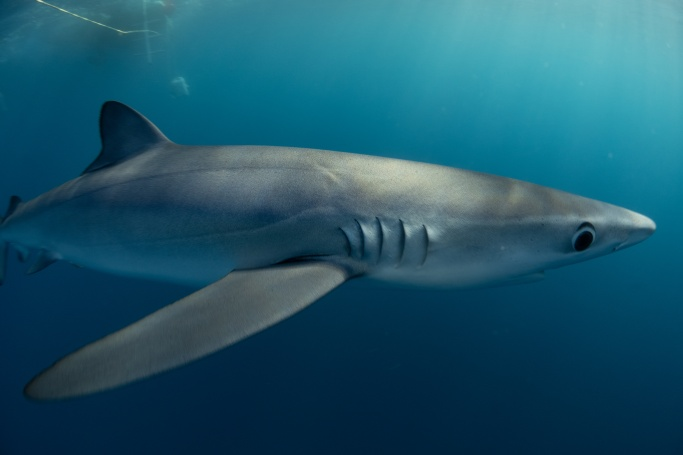Azul: (1, 74, 663, 411)
